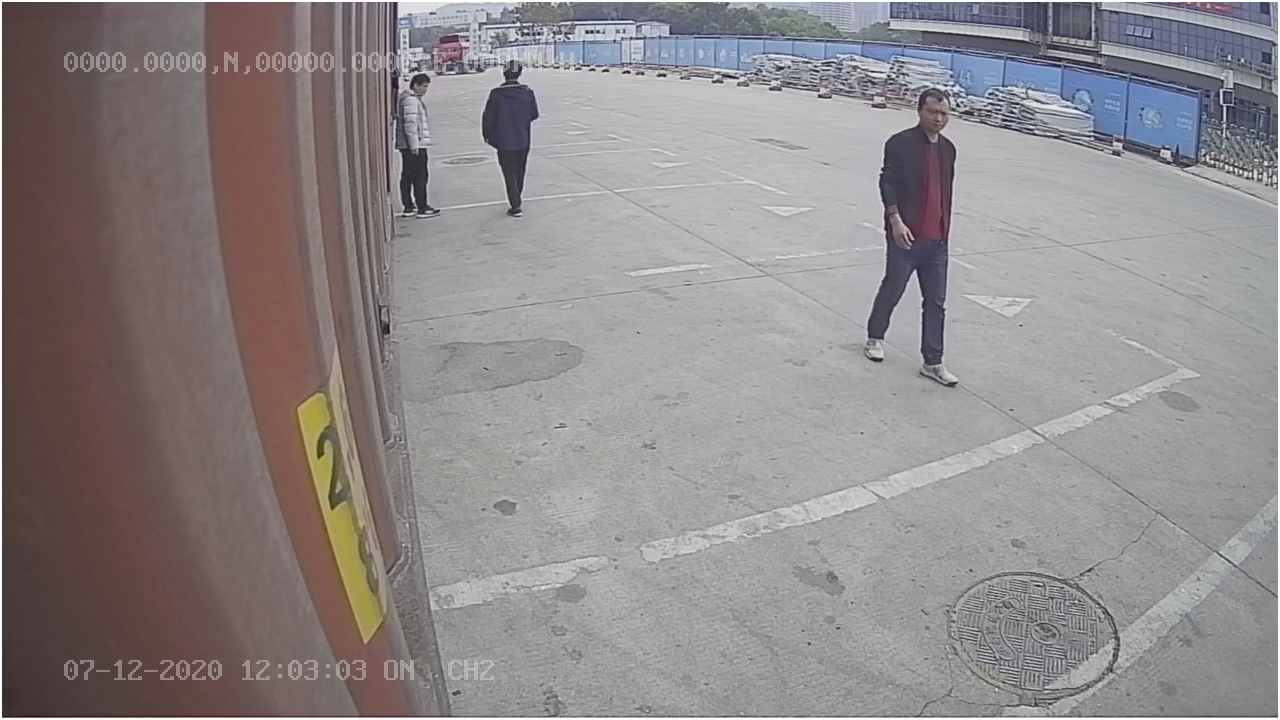person: (863, 86, 975, 387)
